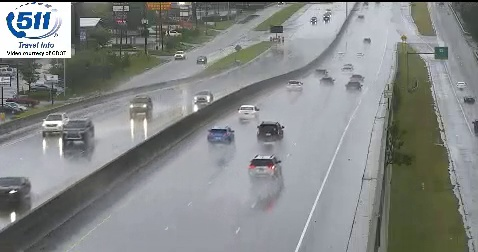car: (248, 155, 280, 177), (256, 121, 284, 140), (207, 126, 235, 144), (237, 105, 258, 120), (286, 79, 303, 91), (345, 81, 361, 92)
